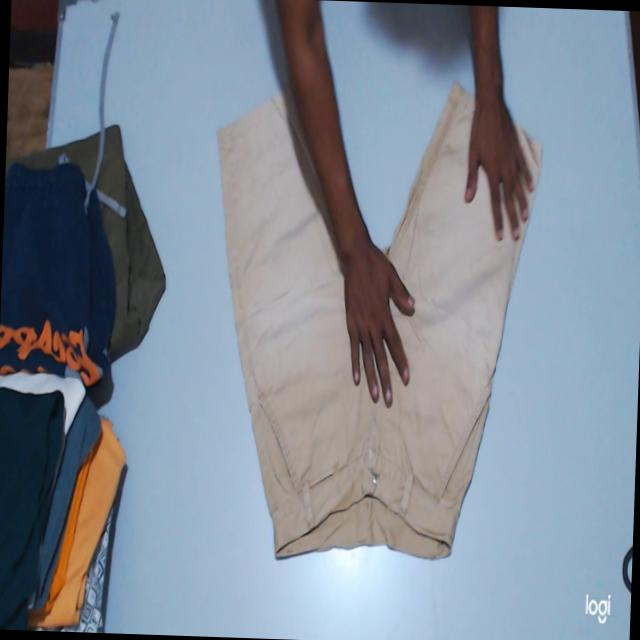new-garment: (218, 83, 527, 558)
